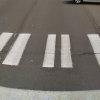Crosswalk: (7, 24, 88, 82)
